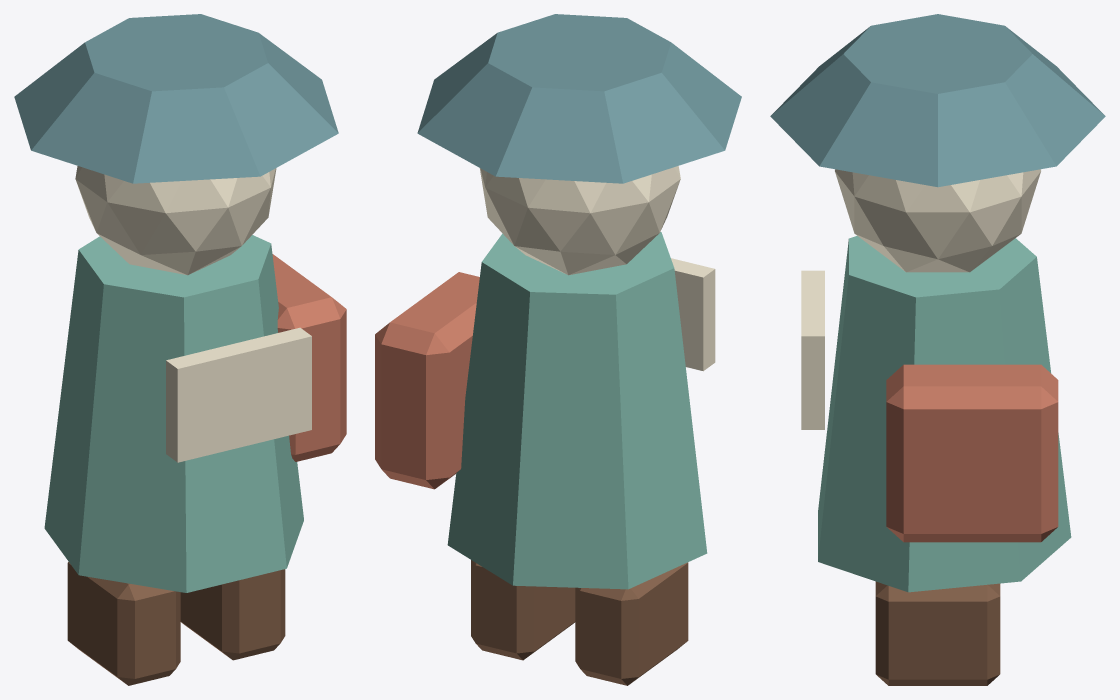
File: messenger.glb
The picture shows the model from 3 angles, left to right: view 1: azimuth 30°, elevation 25°; view 2: azimuth 150°, elevation 25°; view 3: azimuth 270°, elevation 25°; orthographic projection.
Visible parts, largest first — view 1: messenger; view 2: messenger; view 3: messenger.
Boxes of the visible parts, x1,y1,x2,y2 form: messenger: (14, 14, 346, 685); messenger: (375, 14, 741, 685); messenger: (770, 14, 1105, 685).
Size of the model in its own units: 0.8 by 1.53 by 0.78.
